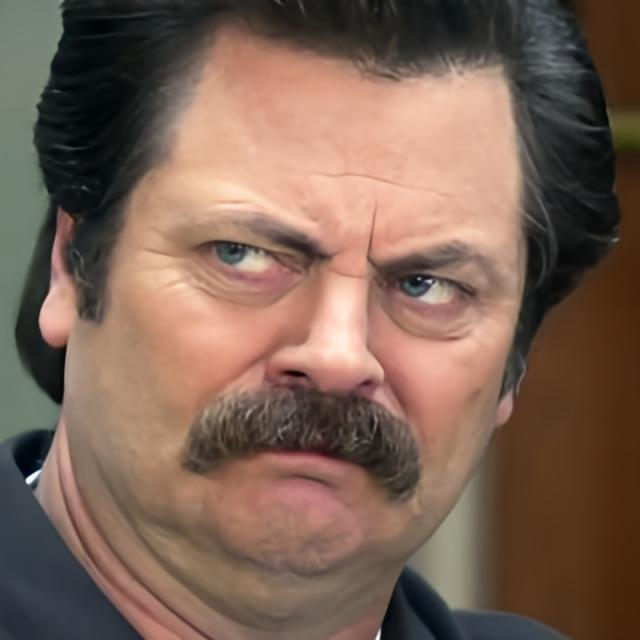disgust: (77, 0, 533, 578)
